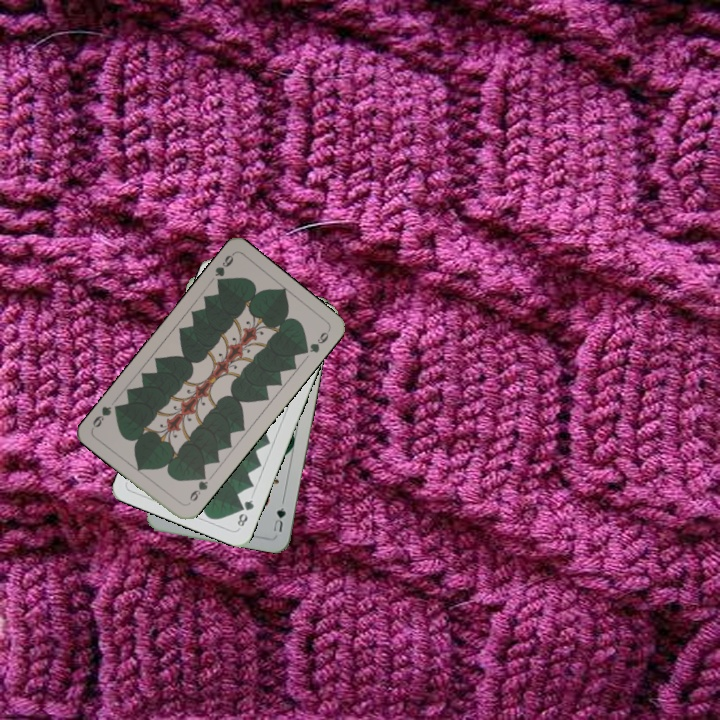G8: (233, 496, 257, 529)
G9: (183, 470, 211, 508), (211, 250, 236, 289)
GU: (269, 503, 288, 534)
